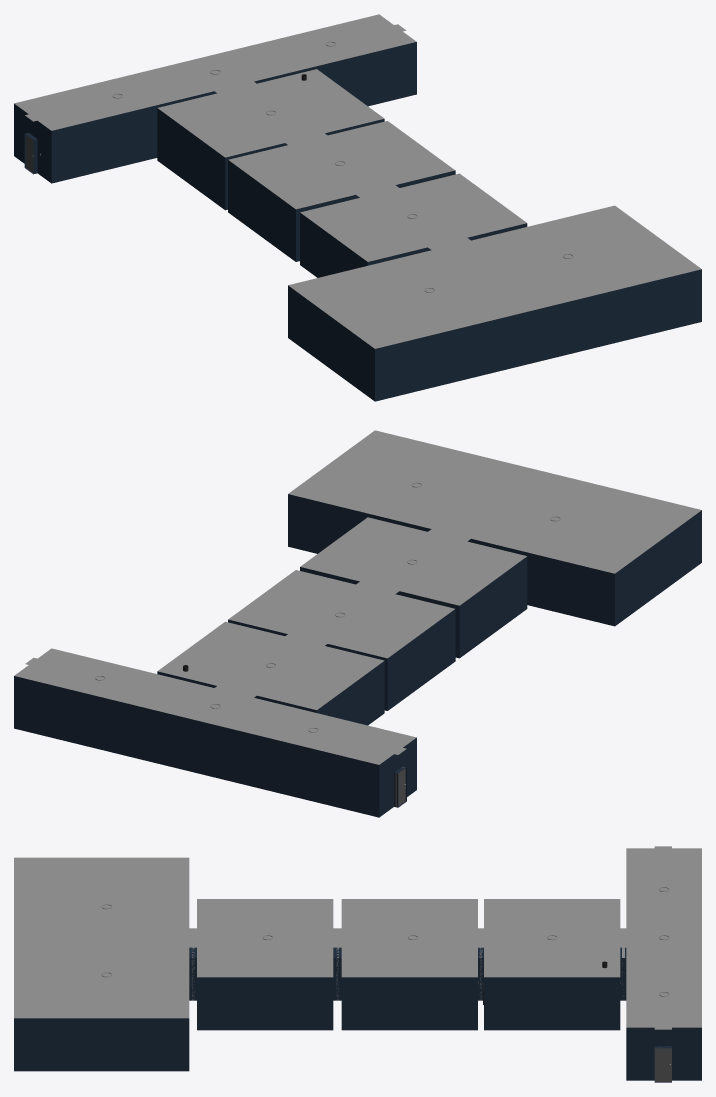
The model's file is room.FBX.
3 views of the same model, one above another, from view 1: azimuth 30°, elevation 25°; view 2: azimuth 150°, elevation 25°; view 3: azimuth 270°, elevation 25° (orthographic).
Parts seen in each view (by area): view 1: Plane001; view 2: Plane001; view 3: Plane001, door1.
Part boxes in pixels (left/top/right/bottom): Plane001: left=14, top=14, right=701, bottom=401; Plane001: left=14, top=430, right=701, bottom=817; Plane001: left=14, top=846, right=701, bottom=1082; door1: left=654, top=1046, right=671, bottom=1081.
Size of the model in its own units: 207 by 30.28 by 328.
